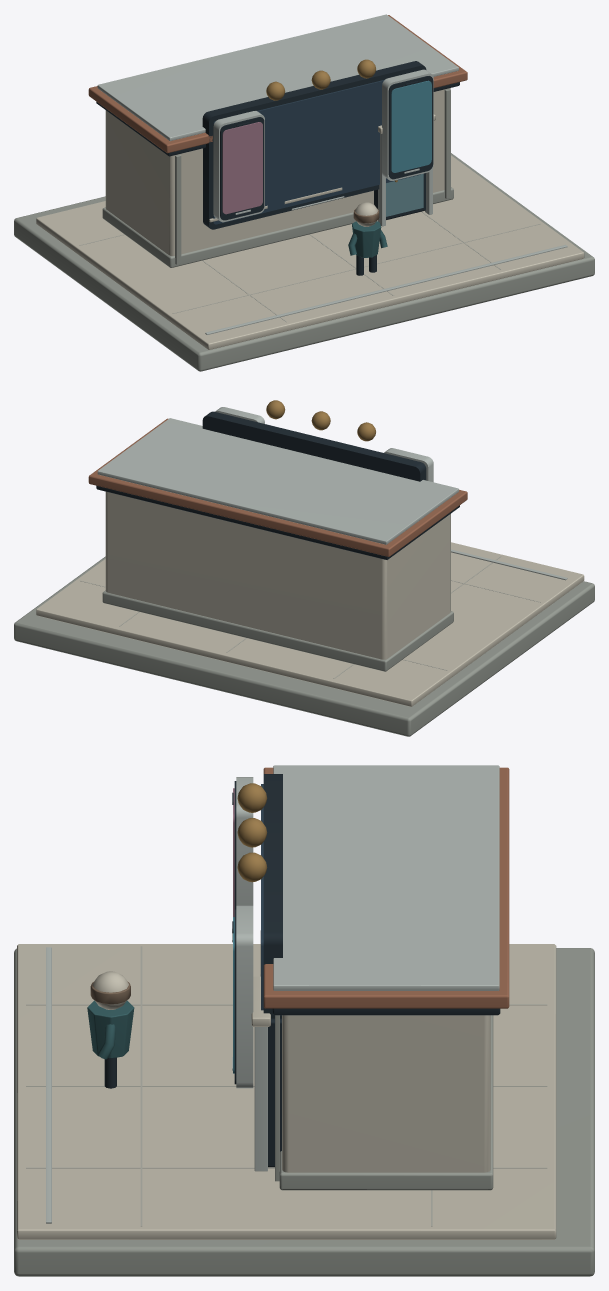
The model's file is idea-86c68564.glb.
3 views of the same model, one above another, from view 1: azimuth 30°, elevation 25°; view 2: azimuth 150°, elevation 25°; view 3: azimuth 270°, elevation 25° (orthographic). The views are drawn at different scales.
Parts seen in each view (by area): view 1: Co-branded Review Pages; view 2: Co-branded Review Pages; view 3: Co-branded Review Pages.
Boxes of the visible parts, <box> form: Co-branded Review Pages: <box>14,14,594,371</box>; Co-branded Review Pages: <box>14,400,594,736</box>; Co-branded Review Pages: <box>14,765,594,1276</box>.
Size of the model in its own units: 4.8 by 2.28 by 3.9.
